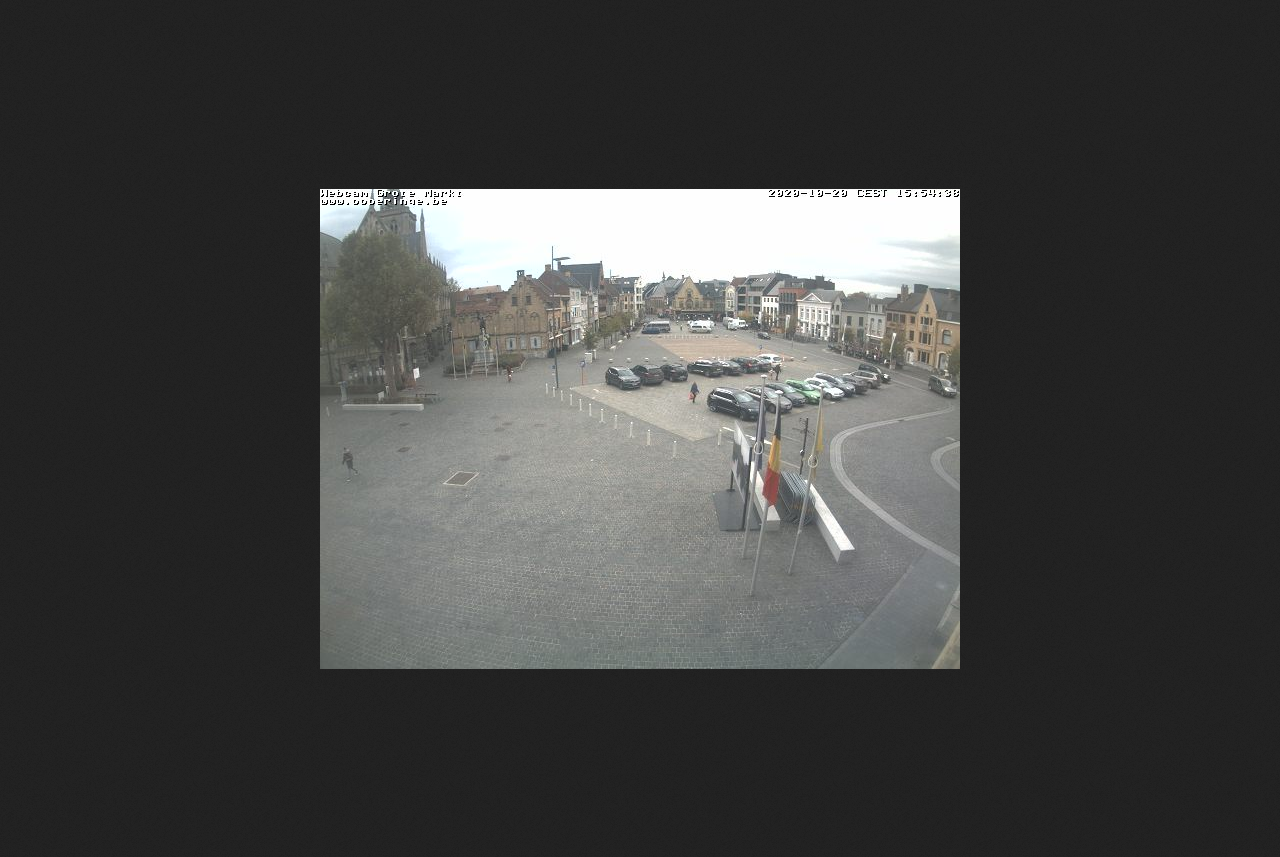no: (763, 403, 786, 507), (748, 397, 766, 473), (810, 400, 825, 480), (479, 332, 489, 353), (449, 335, 456, 355), (492, 326, 497, 351), (460, 335, 465, 355)
